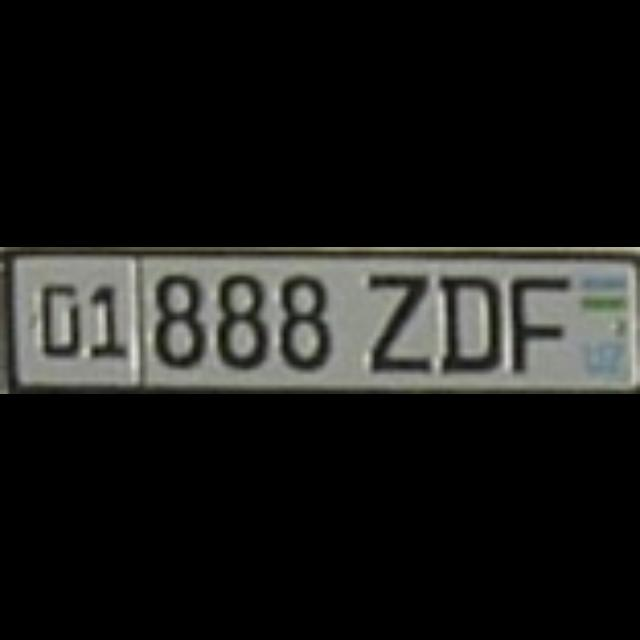0: (32, 275, 74, 349)
1: (82, 275, 120, 349)
8: (274, 267, 324, 361), (148, 267, 196, 361), (214, 267, 262, 361)
D: (431, 267, 497, 365)
F: (500, 267, 566, 365)
Z: (361, 267, 423, 365)
